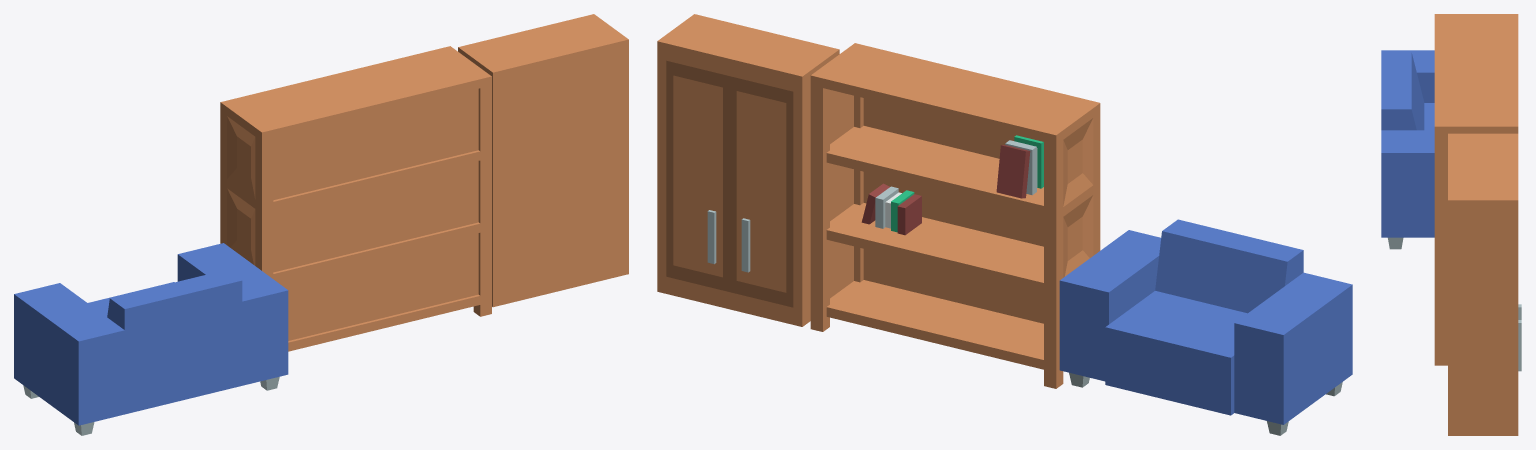
File: 3ComnatsObstacleUpper.fbx
The picture shows the model from 3 angles, left to right: view 1: azimuth 30°, elevation 25°; view 2: azimuth 150°, elevation 25°; view 3: azimuth 270°, elevation 25°; orthographic projection. The views are drawn at different scales.
Parts seen in each view (by area): view 1: bookcaseClosedWide, kitchenCabinetUpperDouble, loungeDesignChair; view 2: bookcaseClosedWide, loungeDesignChair, kitchenCabinetUpperDouble, books (×2); view 3: kitchenCabinetUpperDouble, bookcaseClosedWide, loungeDesignChair.
Boxes of the visible parts, bbox=[...] form: bookcaseClosedWide: bbox=[220, 46, 491, 351]; kitchenCabinetUpperDouble: bbox=[458, 14, 628, 307]; loungeDesignChair: bbox=[14, 243, 288, 435]; bookcaseClosedWide: bbox=[810, 43, 1100, 388]; loungeDesignChair: bbox=[1059, 219, 1352, 435]; kitchenCabinetUpperDouble: bbox=[657, 14, 839, 326]; books (×2): bbox=[861, 135, 1043, 235]; kitchenCabinetUpperDouble: bbox=[1448, 133, 1521, 435]; bookcaseClosedWide: bbox=[1434, 14, 1518, 365]; loungeDesignChair: bbox=[1381, 50, 1434, 249].
Bounding box in the file's own units: 40.59 × 15.8 × 8.4.
